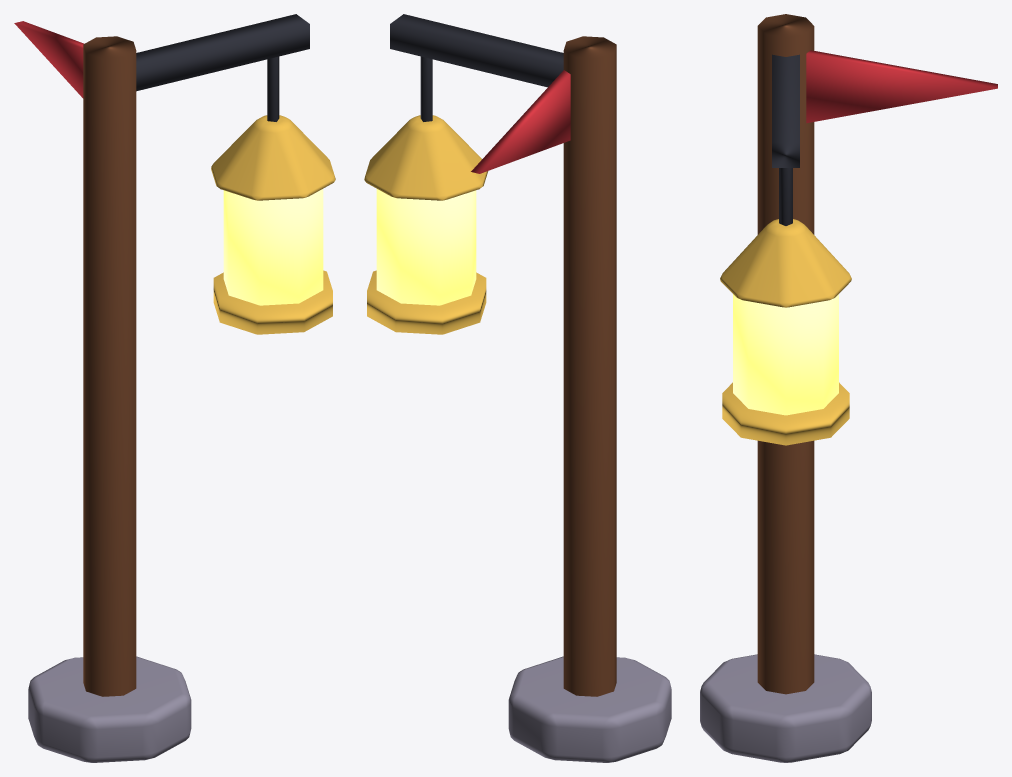
File: faire_exit_lantern.glb
3 renders of one model, left to right at view 1: azimuth 30°, elevation 25°; view 2: azimuth 150°, elevation 25°; view 3: azimuth 270°, elevation 25°, orthographic. The views are drawn at different scales.
Visible parts, largest first — view 1: ExitLantern; view 2: ExitLantern; view 3: ExitLantern.
Boxes of the visible parts, left/top/right/bottom form: ExitLantern: left=14, top=14, right=335, bottom=762; ExitLantern: left=364, top=14, right=671, bottom=762; ExitLantern: left=700, top=14, right=997, bottom=762.
Bounding box in the file's own units: 0.98 × 2.2 × 0.8433.
